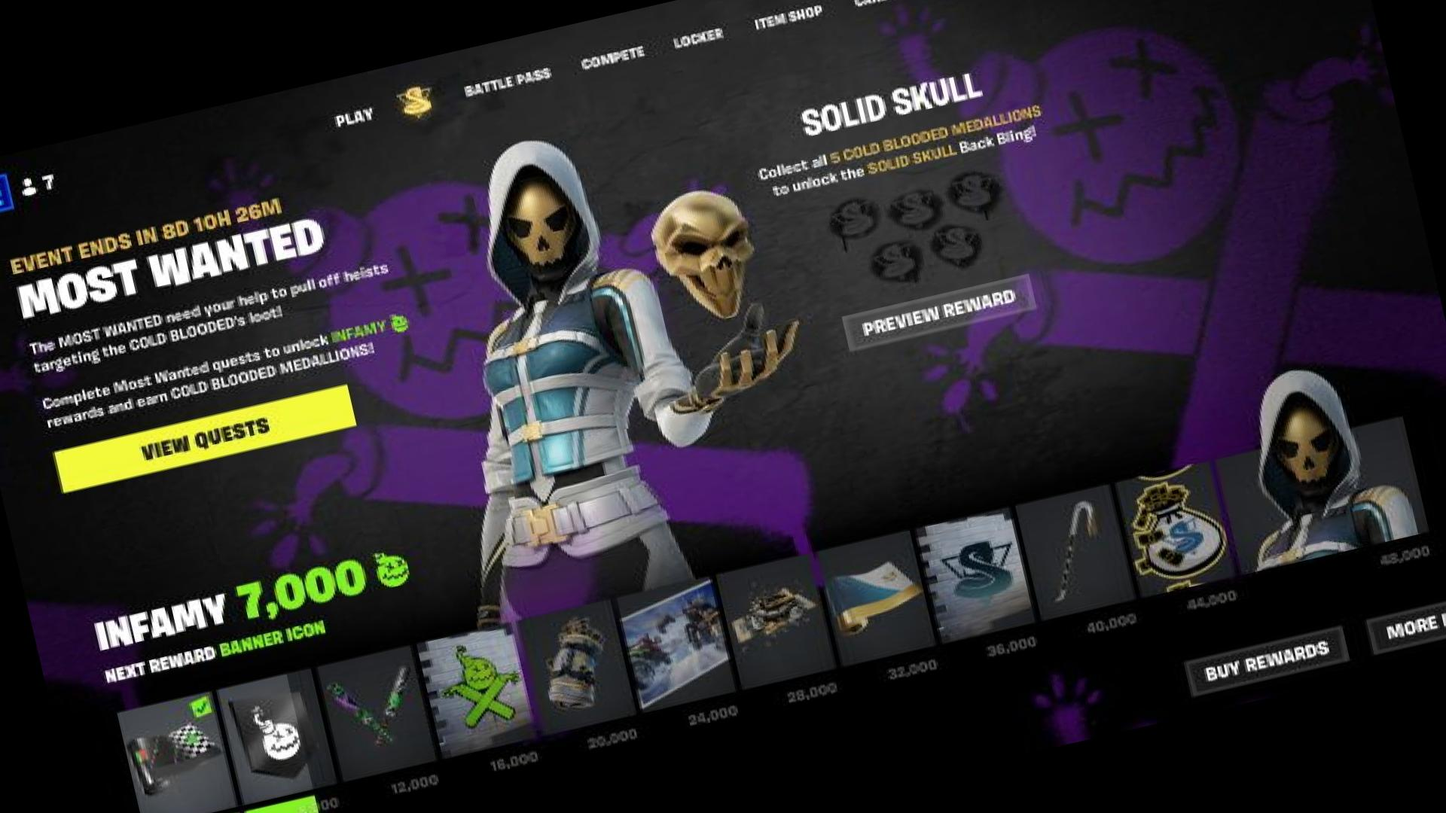player: (441, 127, 694, 613)
